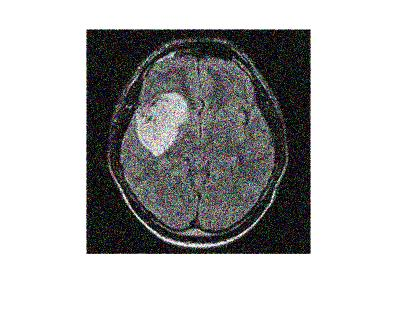Brain_Cancer: (136, 90, 191, 160)
